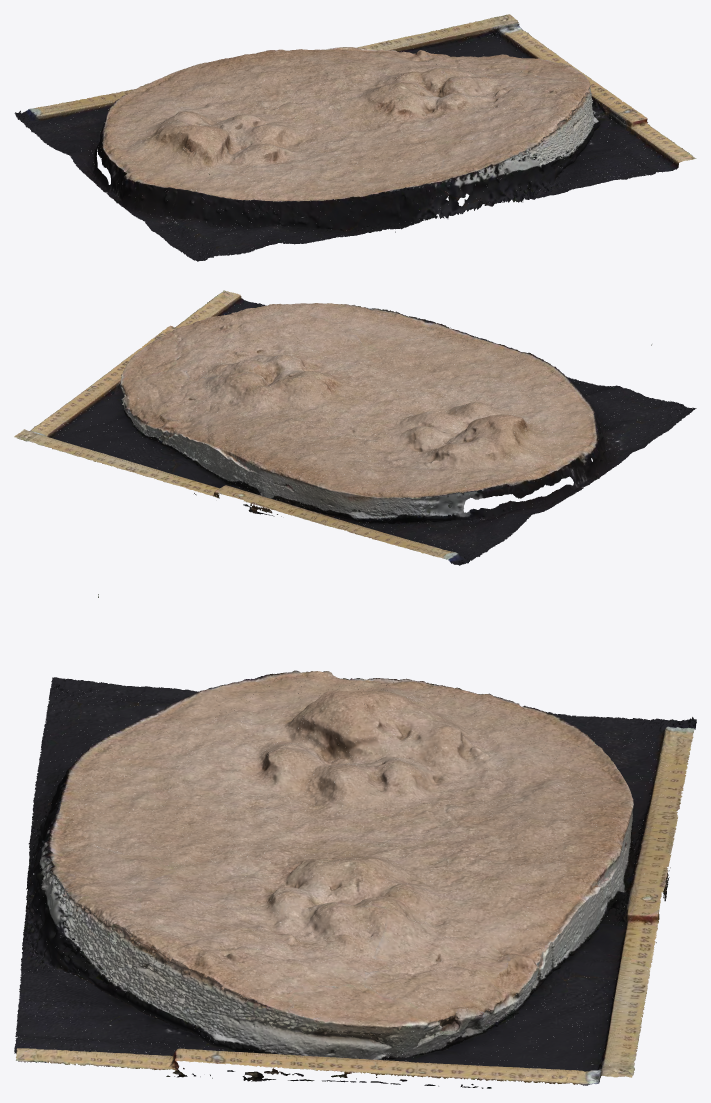
Rendered from muestra_coleccion_ricardo-GHUNLPam29818.glb.
3 renders of one model, top to bottom at view 1: azimuth 30°, elevation 25°; view 2: azimuth 150°, elevation 25°; view 3: azimuth 270°, elevation 25°, orthographic. The views are drawn at different scales.
Parts seen in each view (by area): view 1: Geode; view 2: Geode; view 3: Geode.
Part boxes in pixels (x1,y1,x2,y2): Geode: (14,14,696,261); Geode: (14,290,696,565); Geode: (14,594,696,1088).
Bounding box in the file's own units: 8.35 × 1.46 × 6.37.
Materials: 1 (1 with a texture image).
